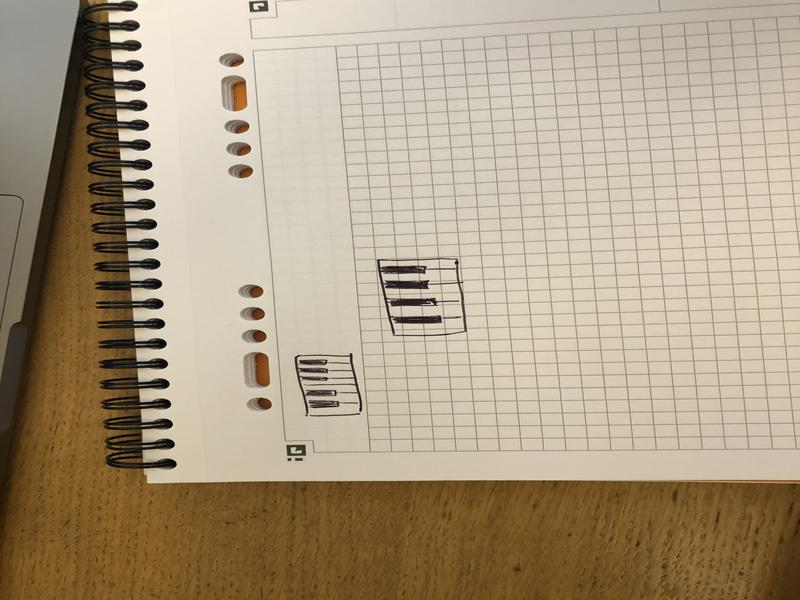piano: (373, 257, 473, 339), (293, 351, 367, 419)
